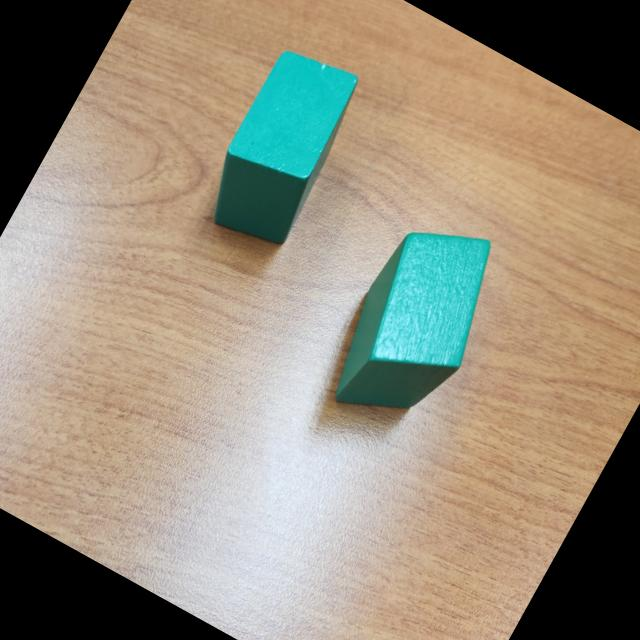green: (311, 200, 520, 448), (191, 38, 373, 260)
